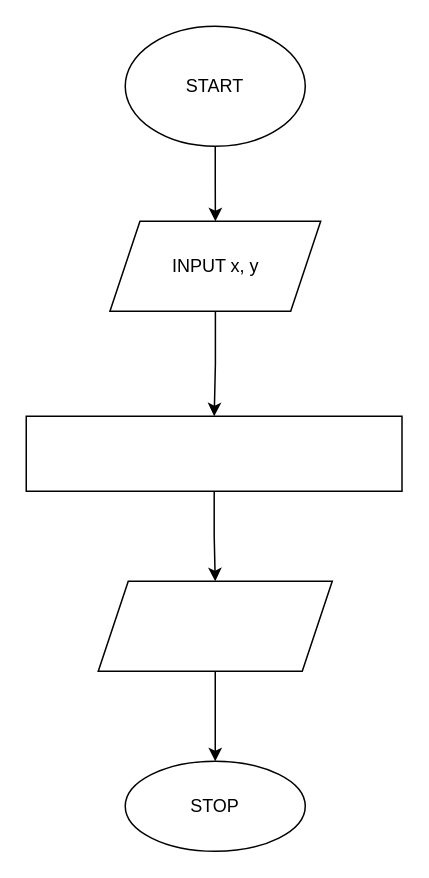
Image size: 429x878. Some labels were removed from this diagram. The shapes that lost their labels are listed below. From the top down, each one's centre as x and y in pixels, then its label:
[213,453]: exp = x*x*x + 3*x*x +3*x*y*y + y*y*y
[214,625]: Display exp
